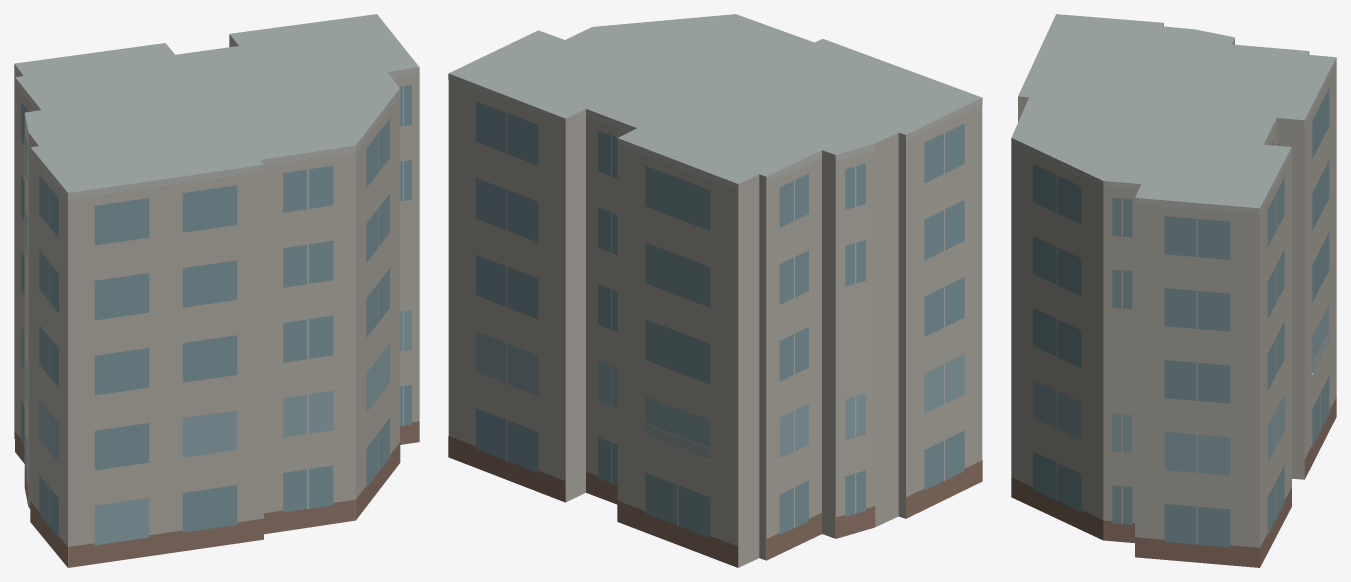
Rendered from survey-upis-32652847.glb.
The picture shows the model from 3 angles, left to right: view 1: azimuth 30°, elevation 25°; view 2: azimuth 150°, elevation 25°; view 3: azimuth 270°, elevation 25°; orthographic projection. The views are drawn at different scales.
Visible parts, largest first — view 1: survey-upis-32652847.tmp; view 2: survey-upis-32652847.tmp; view 3: survey-upis-32652847.tmp.
Boxes of the visible parts, x1,y1,x2,y2 form: survey-upis-32652847.tmp: (14, 14, 419, 567); survey-upis-32652847.tmp: (448, 14, 982, 567); survey-upis-32652847.tmp: (1011, 14, 1336, 567).
Bounding box in the file's own units: 16.12 × 13.9 × 11.4.
